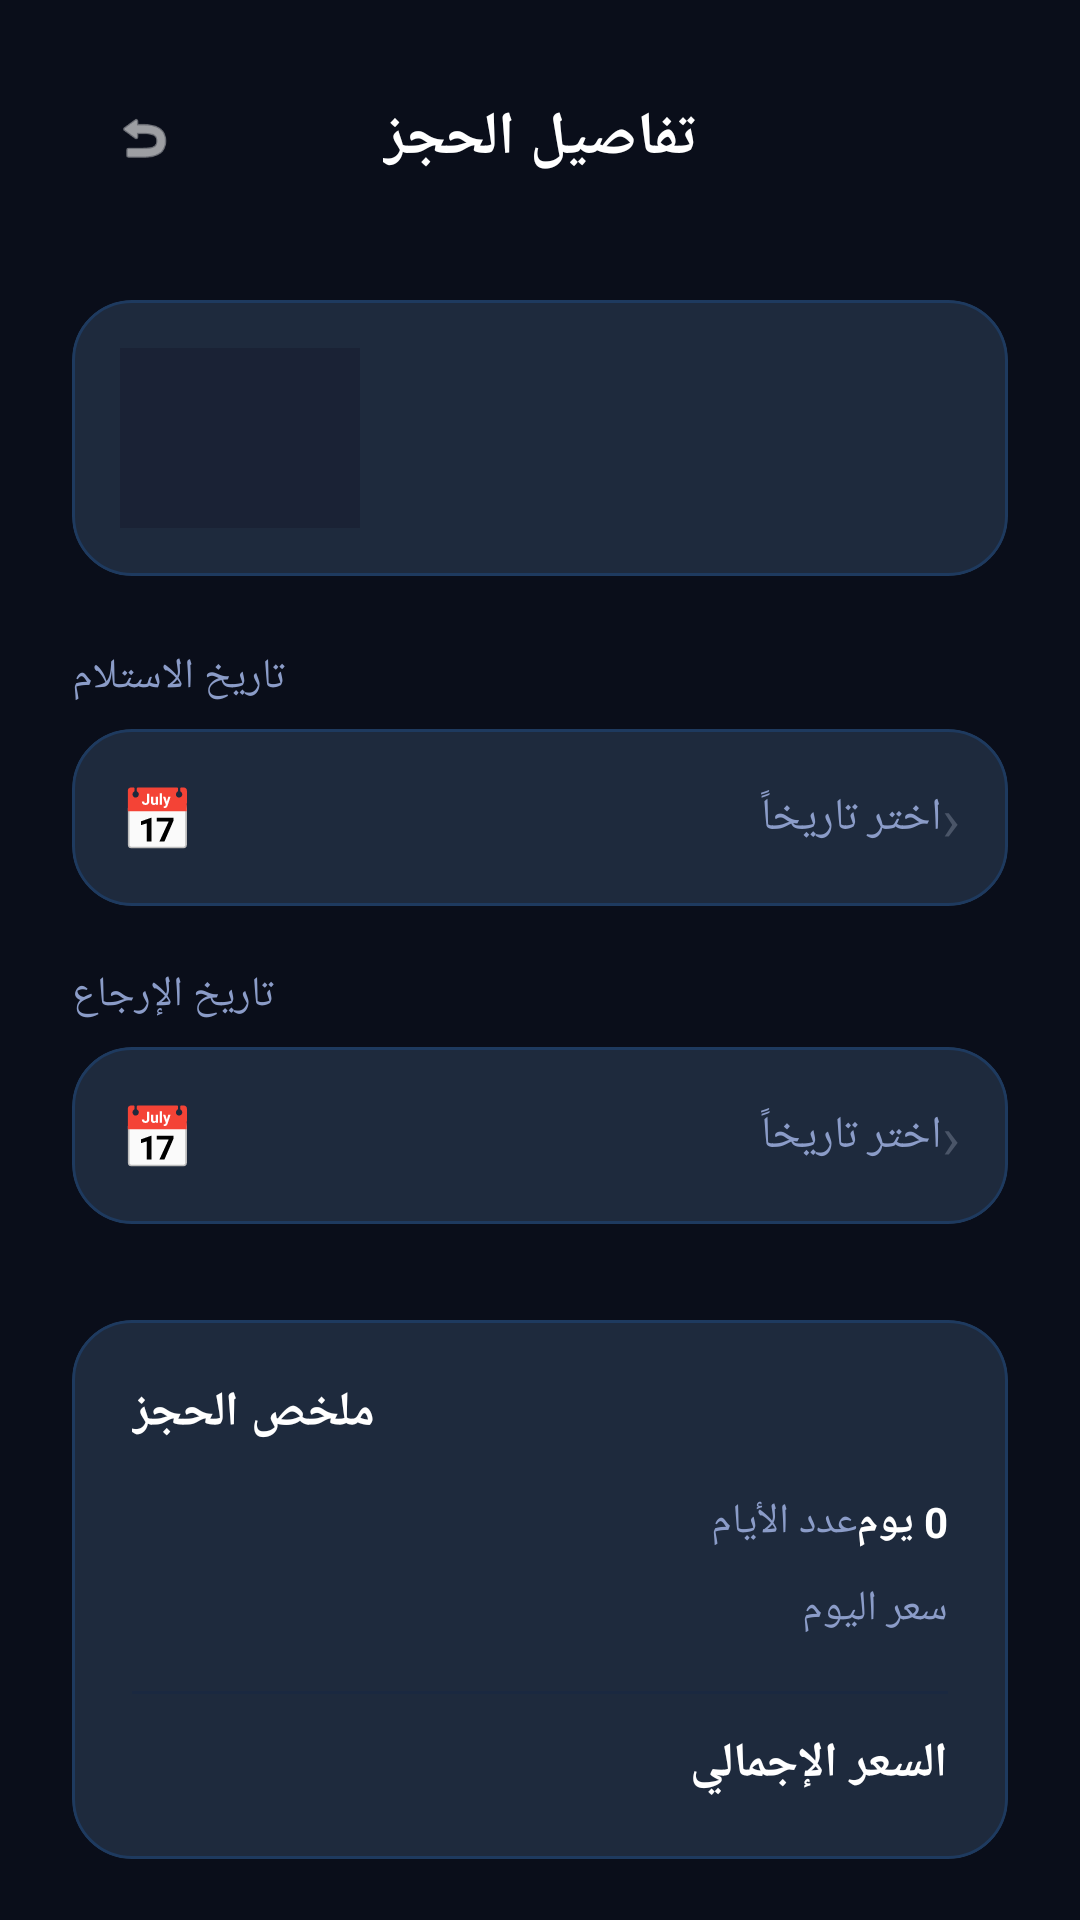

Icons on this 1080*1920 Android screen, each with the point to tap as (x=x, y=y):
revert: (x=145, y=138)
